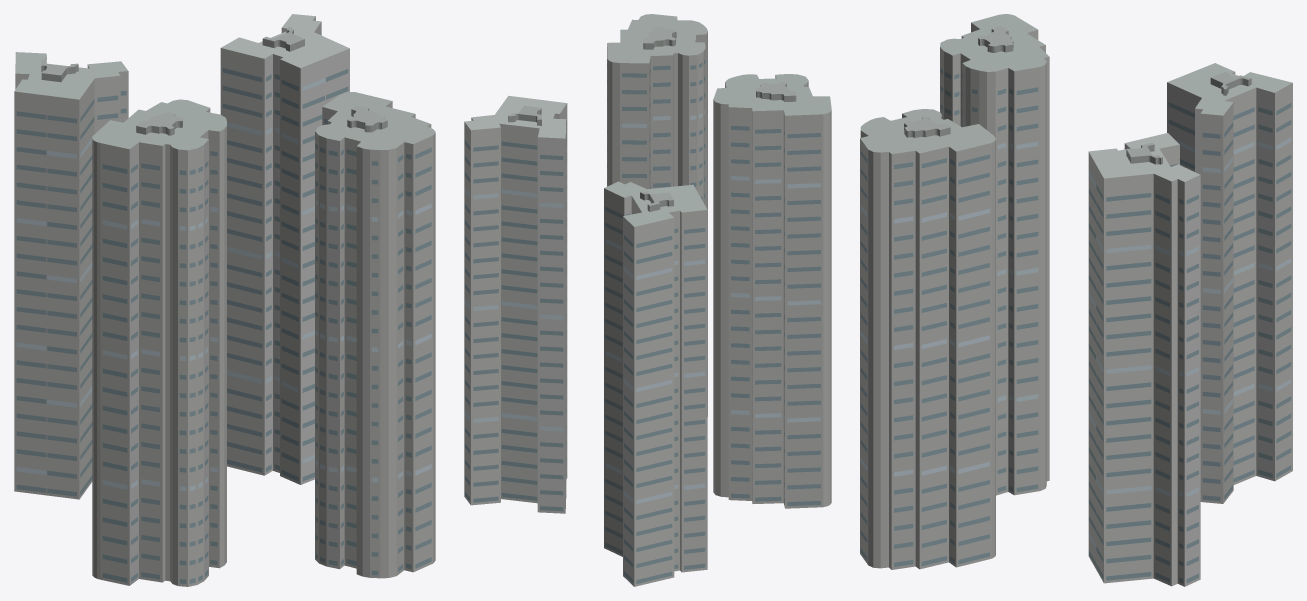
Rendered from apt-a10026988.glb.
3 views of the same model, side by side, from view 1: azimuth 30°, elevation 25°; view 2: azimuth 150°, elevation 25°; view 3: azimuth 270°, elevation 25° (orthographic). The views are drawn at different scales.
Visible parts, largest first — view 1: apt-a10026988; view 2: apt-a10026988; view 3: apt-a10026988.
Part boxes in pixels (x1,y1,x2,y2): apt-a10026988: [14, 14, 435, 586]; apt-a10026988: [464, 14, 831, 586]; apt-a10026988: [860, 14, 1292, 586].
Size of the model in its own units: 116 by 157 by 143.
